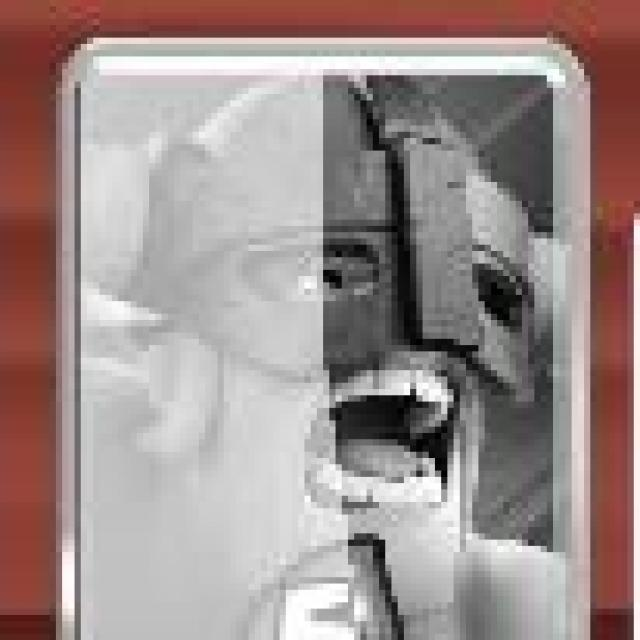Elite_Barbarians: (47, 33, 594, 640)
